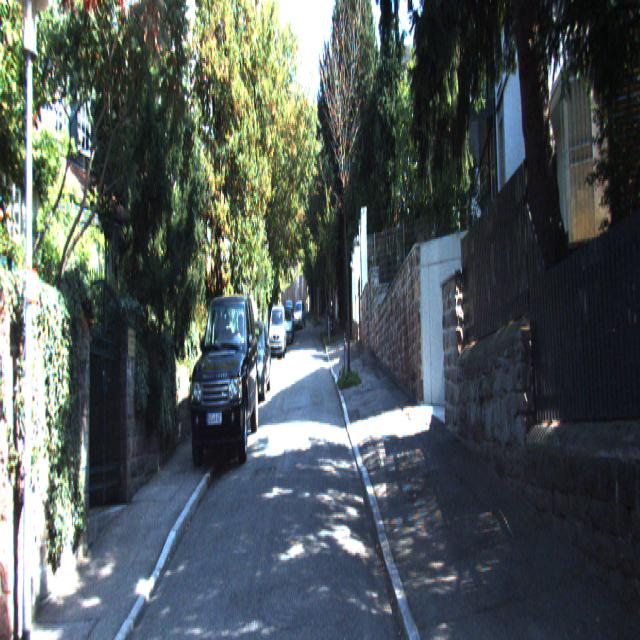Car: (185, 283, 260, 480), (235, 320, 272, 409), (268, 305, 287, 361), (292, 300, 306, 330)
